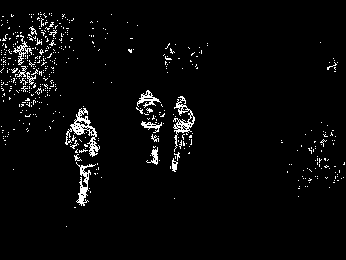person: (63, 104, 102, 209), (136, 87, 167, 165), (169, 95, 195, 172)
